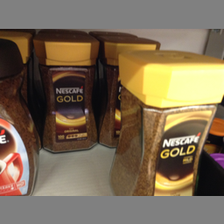coffee: (110, 50, 222, 195), (34, 31, 99, 153)
